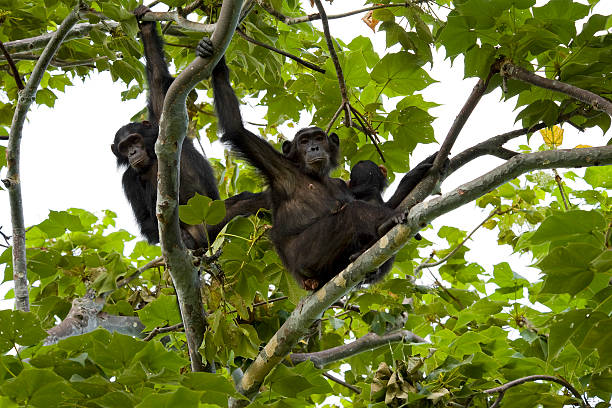chimpanzee: (279, 116, 349, 193), (105, 114, 174, 182)
